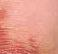plaque psoriasis: (0, 28, 45, 54), (0, 3, 17, 47), (0, 0, 8, 12)
